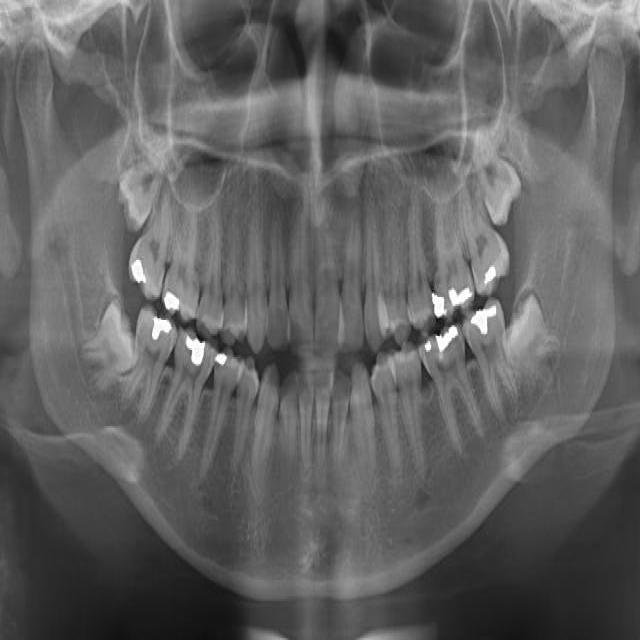dolgu: (431, 256, 478, 320), (177, 316, 211, 383), (418, 326, 462, 366), (141, 311, 176, 358), (462, 300, 504, 338), (126, 248, 158, 296), (156, 277, 188, 315), (472, 252, 503, 289), (209, 339, 238, 377)
kok-enfeksiyonu: (404, 472, 439, 528)
